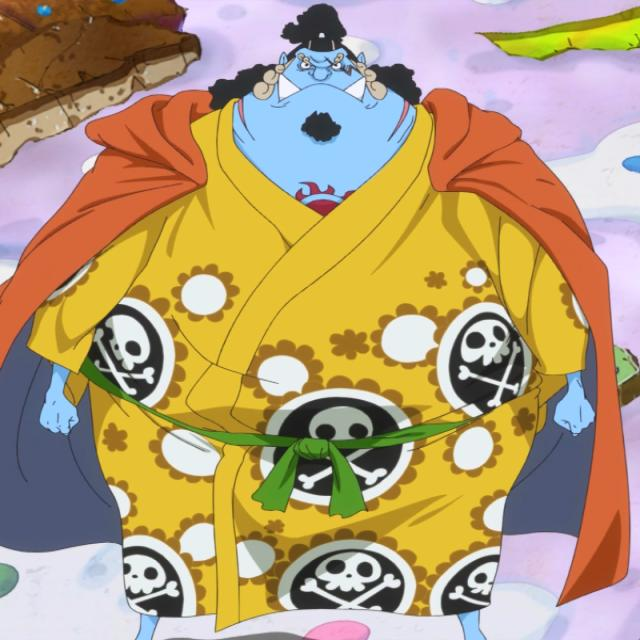Jinbe: (0, 5, 630, 631)
